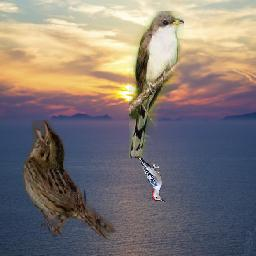Cuckoo: (130, 12, 185, 159)
Sparrow: (22, 121, 116, 240)
Woodpecker: (137, 156, 165, 202)
